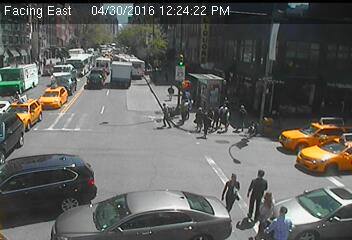neg: (90, 139, 129, 191), (308, 132, 345, 181), (51, 177, 87, 224), (24, 120, 59, 167), (181, 4, 212, 45), (324, 37, 350, 72), (283, 148, 308, 181), (284, 73, 308, 105), (313, 206, 335, 236), (51, 5, 73, 35), (74, 50, 96, 79), (120, 1, 142, 30), (67, 120, 88, 149), (237, 43, 258, 71), (302, 120, 323, 147), (159, 164, 180, 191), (14, 4, 33, 29), (116, 44, 133, 66), (123, 103, 139, 124), (42, 63, 57, 83), (72, 90, 86, 110)
pos: (213, 168, 254, 222), (242, 164, 282, 218), (251, 191, 283, 234), (270, 204, 297, 239), (230, 101, 255, 134), (154, 100, 176, 129), (189, 106, 210, 134), (197, 112, 215, 137), (165, 83, 179, 101)
